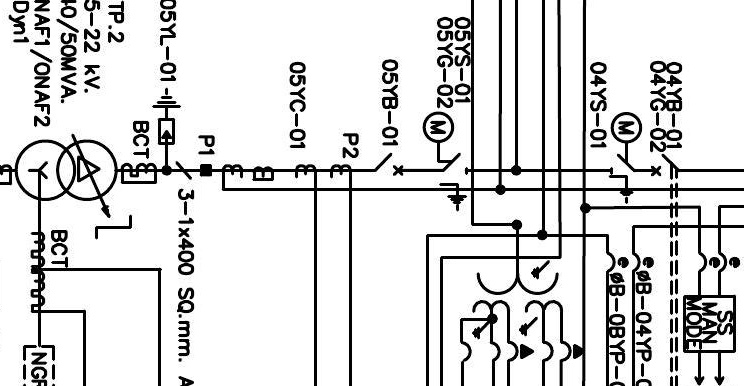11522_tx_dyn1: (14, 138, 119, 202)
115_3ways_ds_w_motor: (421, 111, 468, 212), (608, 111, 643, 205)
115_breaker: (650, 153, 680, 177), (373, 161, 403, 185)
115_la: (151, 87, 182, 146)
115_vt_1p: (471, 259, 585, 363)
ss_man_mode: (682, 294, 737, 354)
